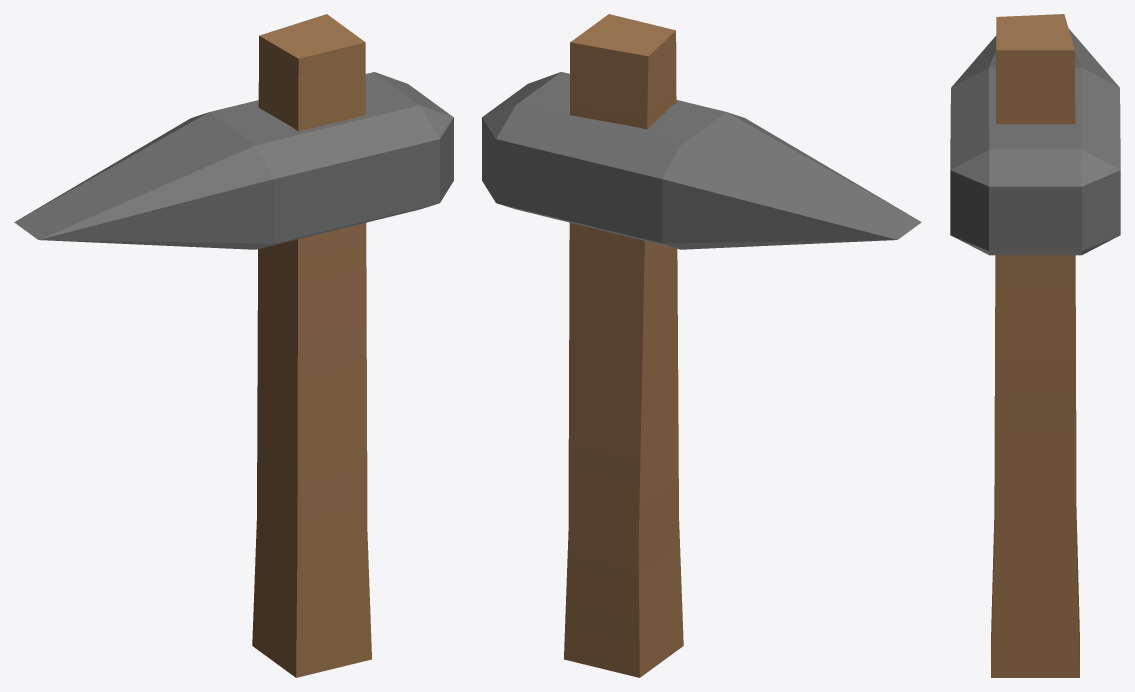
File: Chisel.fbx
The picture shows the model from 3 angles, left to right: view 1: azimuth 30°, elevation 25°; view 2: azimuth 150°, elevation 25°; view 3: azimuth 270°, elevation 25°; orthographic projection.
Visible parts, largest first — view 1: Chisel; view 2: Chisel; view 3: Chisel.
Boxes of the visible parts, x1,y1,x2,y2 form: Chisel: (14, 14, 453, 677); Chisel: (482, 14, 921, 677); Chisel: (950, 14, 1120, 677).
Bounding box in the file's own units: 31.44 × 45.72 × 11.29.
